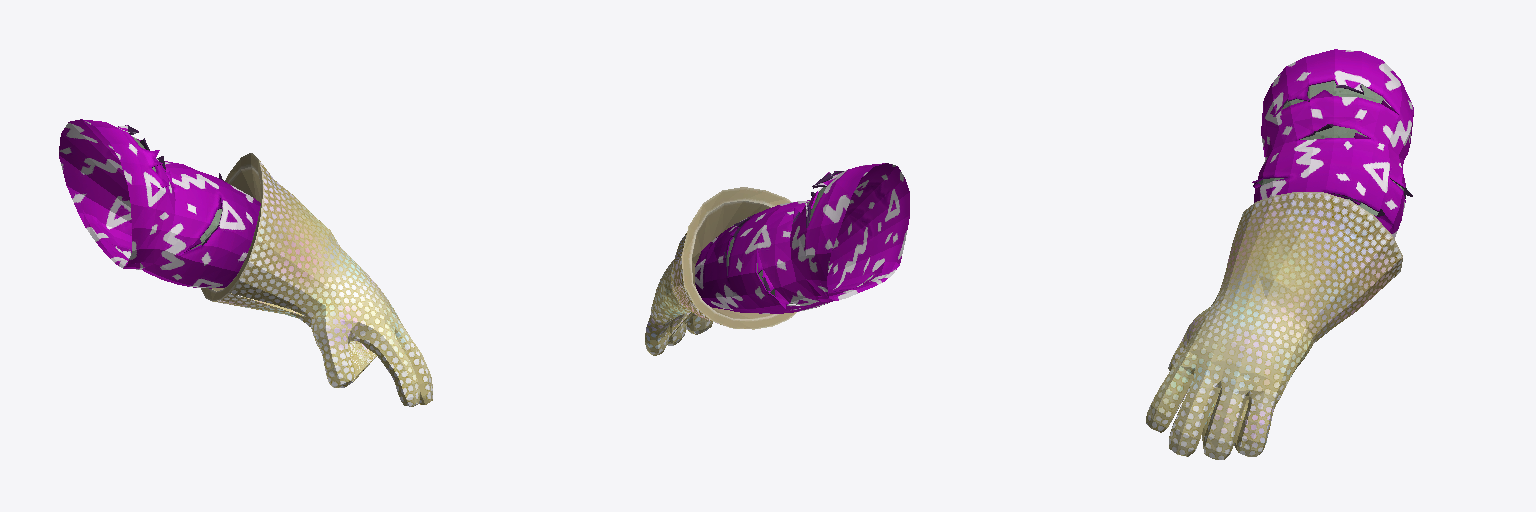
The picture shows the model from 3 angles: view 1: azimuth 30°, elevation 25°; view 2: azimuth 150°, elevation 25°; view 3: azimuth 270°, elevation 25°; orthographic projection.
Visible parts, largest first — view 1: left_arm-1_zombie_party_brainz.blend_Costume_NewWave_Clothing_M_; view 2: left_arm-1_zombie_party_brainz.blend_Costume_NewWave_Clothing_M_; view 3: left_arm-1_zombie_party_brainz.blend_Costume_NewWave_Clothing_M_.
Part boxes in pixels (left/top/right/bottom): left_arm-1_zombie_party_brainz.blend_Costume_NewWave_Clothing_M_: left=59, top=119, right=432, bottom=406; left_arm-1_zombie_party_brainz.blend_Costume_NewWave_Clothing_M_: left=645, top=163, right=909, bottom=355; left_arm-1_zombie_party_brainz.blend_Costume_NewWave_Clothing_M_: left=1146, top=49, right=1413, bottom=459.
Bounding box in the file's own units: 1.1 × 1.11 × 0.9509.
Materials: 2 (2 with a texture image).